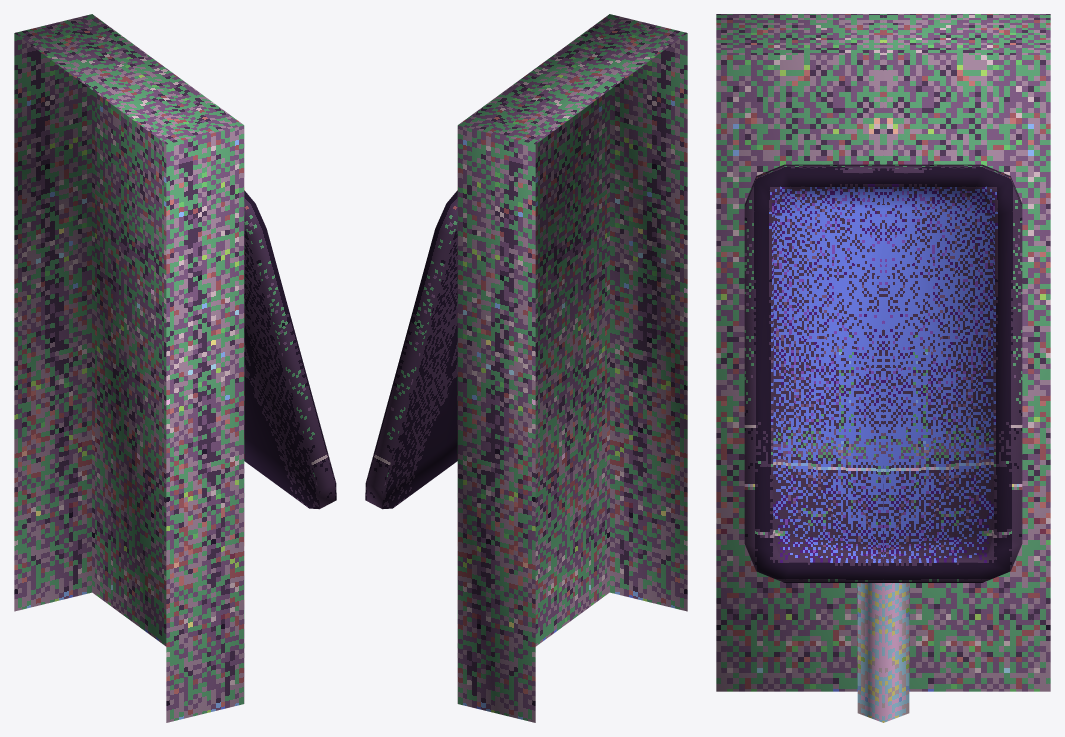
The model's file is kiosk.glb.
3 renders of one model, left to right at view 1: azimuth 30°, elevation 25°; view 2: azimuth 150°, elevation 25°; view 3: azimuth 270°, elevation 25°, orthographic. The views are drawn at different scales.
Visible parts, largest first — view 1: kiosk; view 2: kiosk; view 3: kiosk.
Boxes of the visible parts, x1,y1,x2,y2 form: kiosk: (14, 14, 336, 722); kiosk: (365, 14, 687, 722); kiosk: (716, 14, 1050, 722).
Bounding box in the file's own units: 1.48 × 4.3 × 2.04.
Materials: 2 (2 with a texture image).
